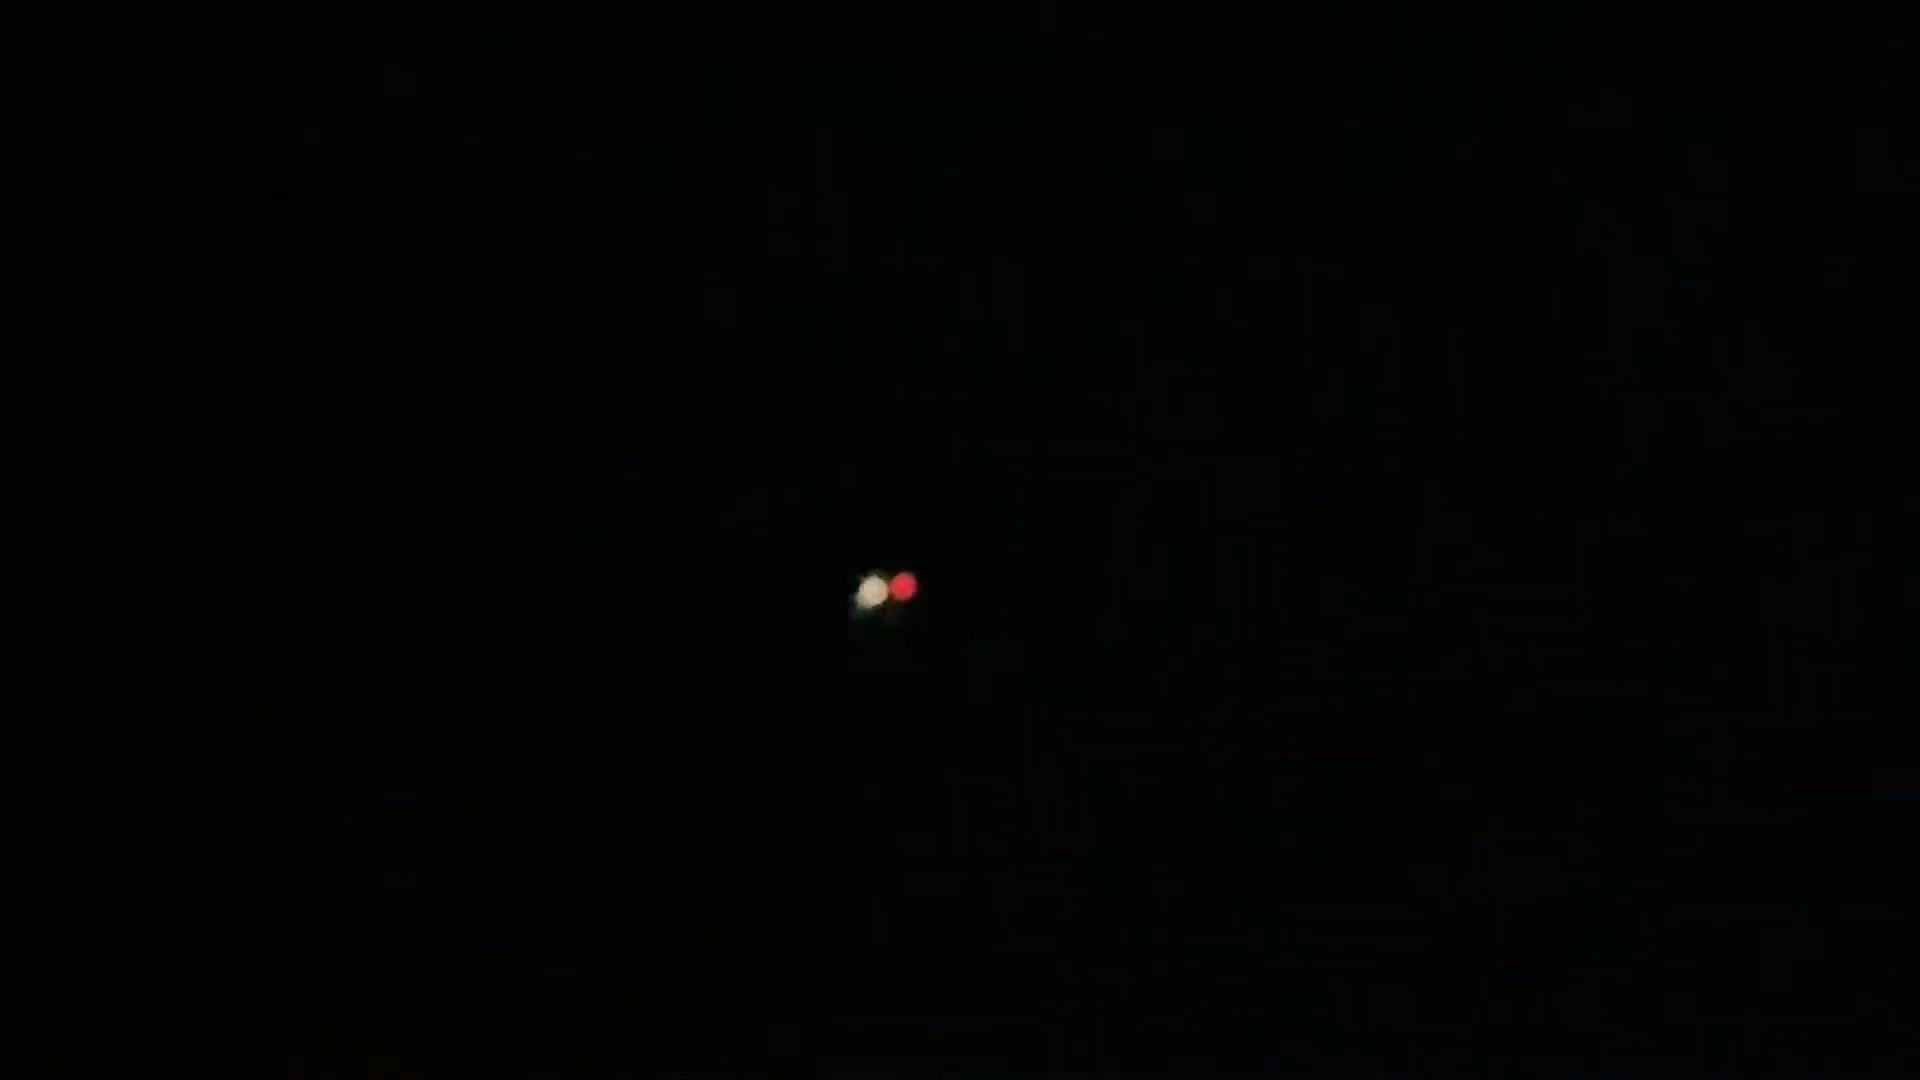Plane: (778, 553, 982, 636)
